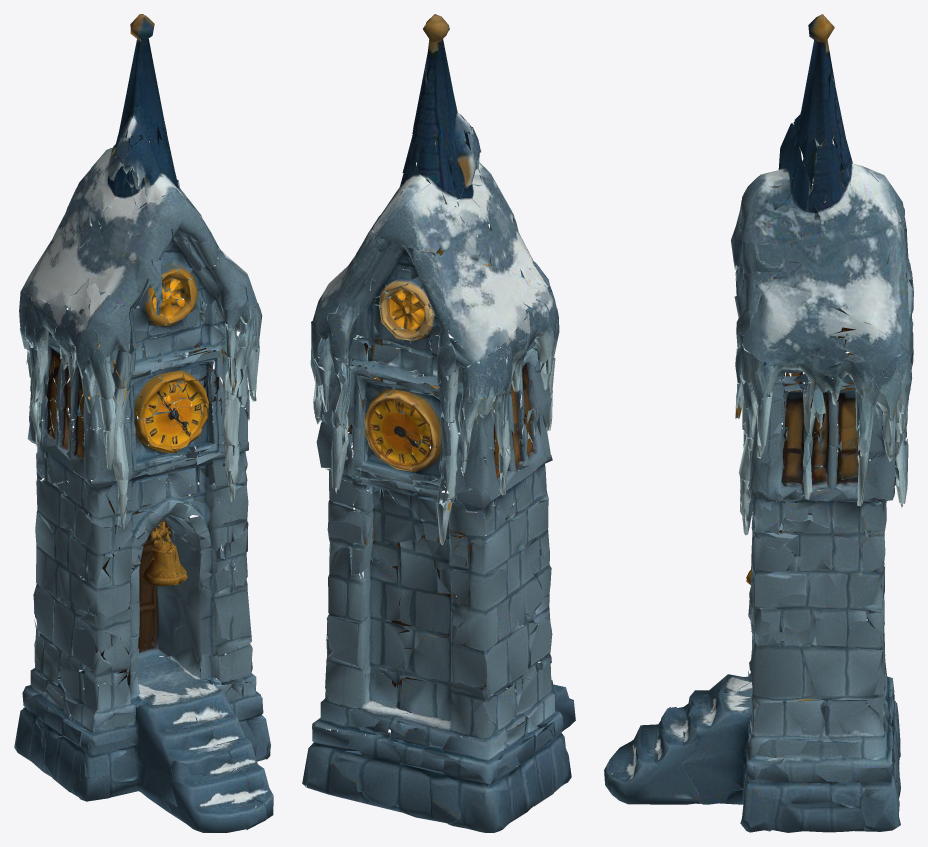
The model's file is frost_belfry.glb.
3 renders of one model, left to right at view 1: azimuth 30°, elevation 25°; view 2: azimuth 150°, elevation 25°; view 3: azimuth 270°, elevation 25°, orthographic. The views are drawn at different scales.
Parts seen in each view (by area): view 1: frost_belfry; view 2: frost_belfry; view 3: frost_belfry.
Part boxes in pixels (<box>): frost_belfry: <box>14,14,273,832</box>; frost_belfry: <box>302,14,575,832</box>; frost_belfry: <box>604,14,913,832</box>.
Size of the model in its own units: 1.02 by 3.8 by 1.38.
Materials: 1 (1 with a texture image).
